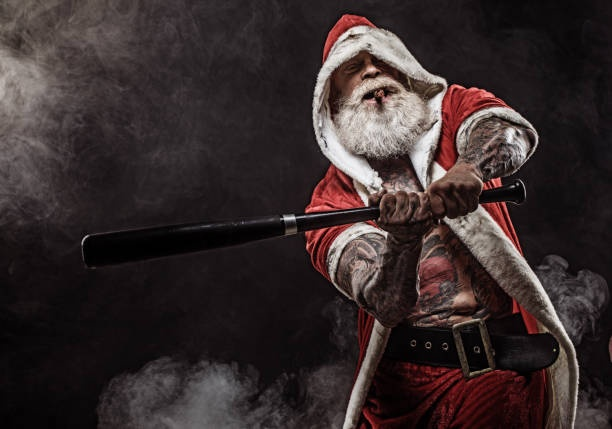bita: (86, 177, 525, 269)
